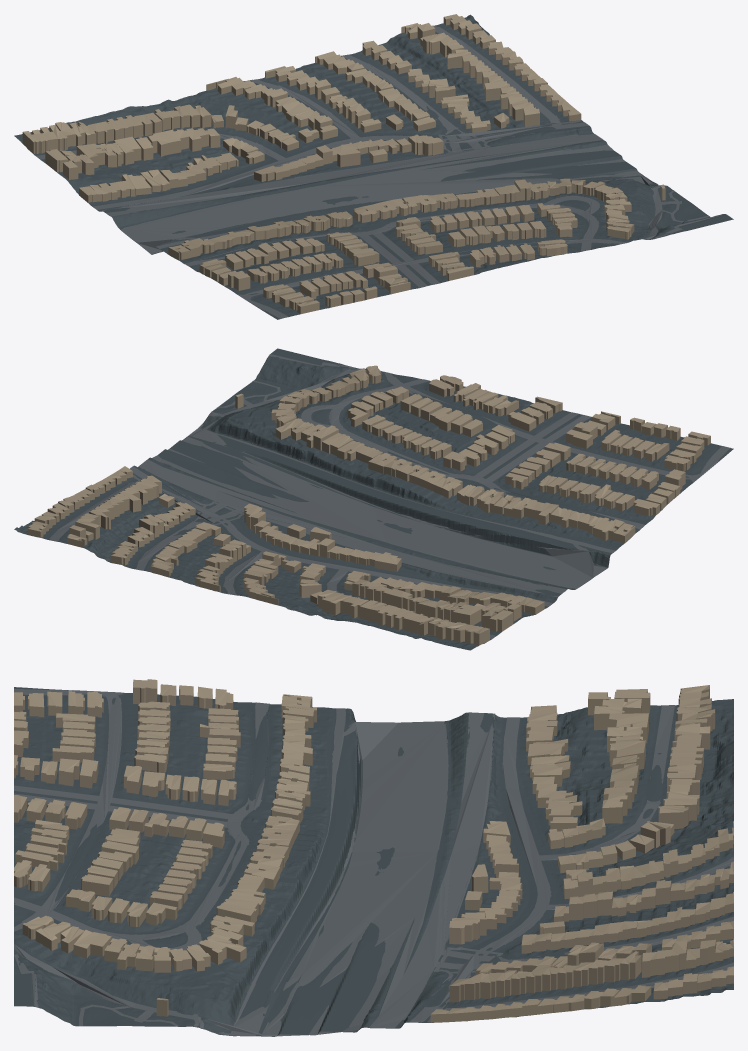
File: epsg26910-1434-10875.lod0.glb
3 views of the same model, one above another, from view 1: azimuth 30°, elevation 25°; view 2: azimuth 150°, elevation 25°; view 3: azimuth 270°, elevation 25° (orthographic). The views are drawn at different scales.
Parts seen in each view (by area): view 1: epsg26910-1434-10875-lod0; view 2: epsg26910-1434-10875-lod0; view 3: epsg26910-1434-10875-lod0.
Part boxes in pixels (x1=…): epsg26910-1434-10875-lod0: x1=14, y1=14, x2=733, y2=319; epsg26910-1434-10875-lod0: x1=14, y1=348, x2=733, y2=650; epsg26910-1434-10875-lod0: x1=14, y1=679, x2=733, y2=1036.
Size of the model in its own units: 384 by 34.63 by 384.
